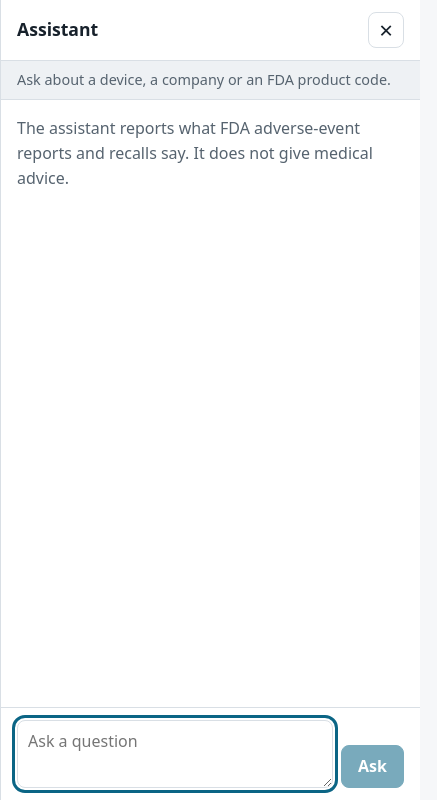
statuses from /api/answer (handover §5) › unclear: the fixed text
Type "a question" into the text box named "Your question" at (175, 754), box [17,720,333,788]
Then press Enter
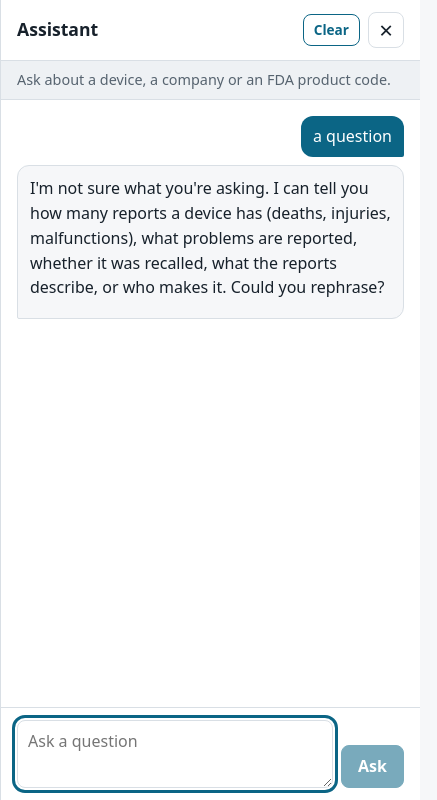
expect the element with class "reply" is shown: met, box [17,165,404,319]
expect the element with class "reply" shows "I'm not sure what you're asking. I can tell you how many reports a device has (deaths, injuries, malfunctions), what problems are reported, whether it was recal": met, box [30,177,391,298]
